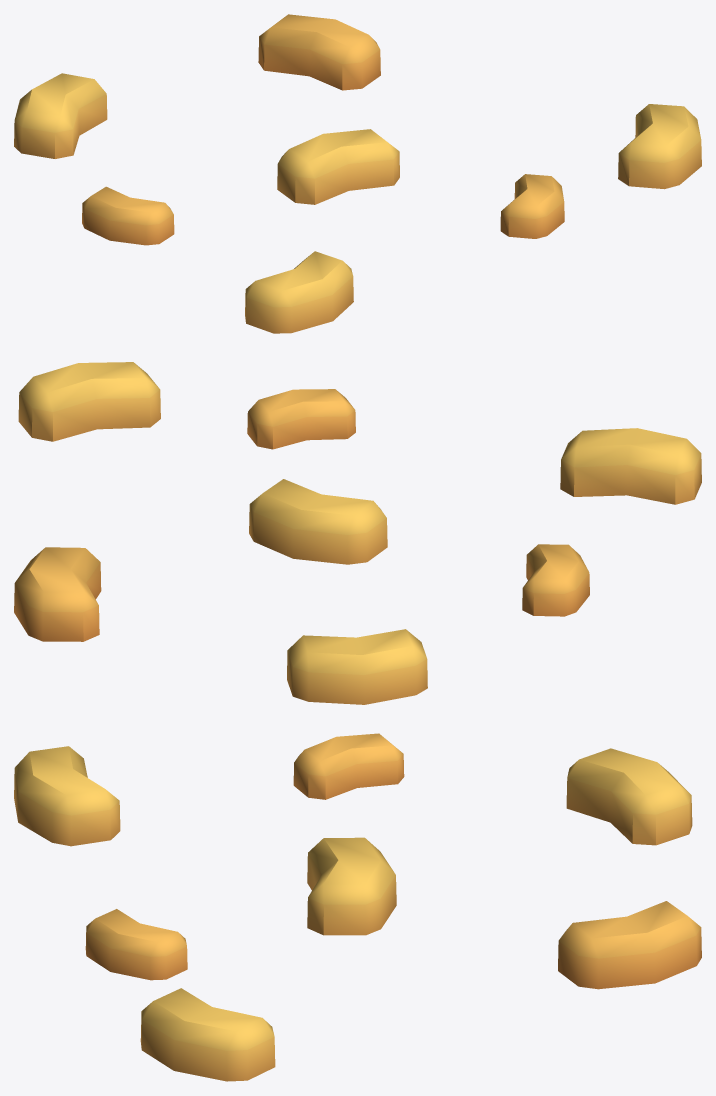
The model's file is food_ingredient_cheese_grated.obj.
3 renders of one model, top to bottom at view 1: azimuth 30°, elevation 25°; view 2: azimuth 150°, elevation 25°; view 3: azimuth 270°, elevation 25°, orthographic. The views are drawn at different scales.
Visible parts, largest first — view 1: food_ingredient_cheese_grated_Cube.034; view 2: food_ingredient_cheese_grated_Cube.034; view 3: food_ingredient_cheese_grated_Cube.034.
Part boxes in pixels (box(x1,y1,x2,y2)): food_ingredient_cheese_grated_Cube.034: box(14, 14, 701, 333); food_ingredient_cheese_grated_Cube.034: box(14, 362, 701, 704); food_ingredient_cheese_grated_Cube.034: box(14, 733, 701, 1081).
Bounding box in the file's own units: 1.05 × 0.0706 × 0.9704.
Materials: 1 (1 with a texture image).
